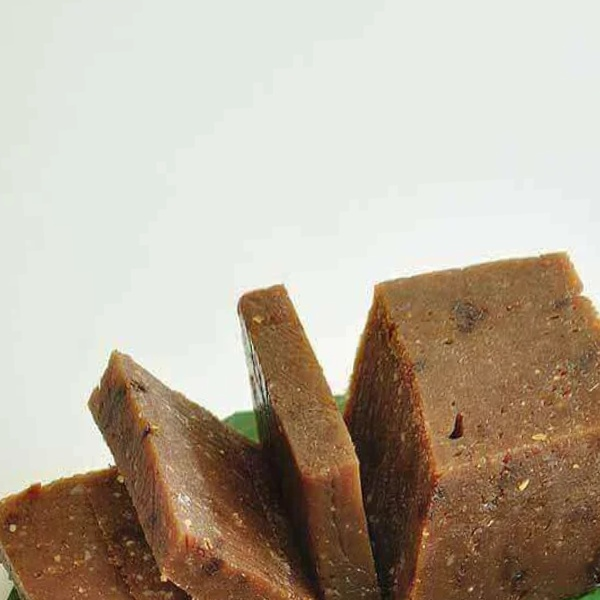dodol: (334, 243, 600, 600), (83, 340, 331, 600), (235, 277, 400, 600), (0, 457, 228, 600)
